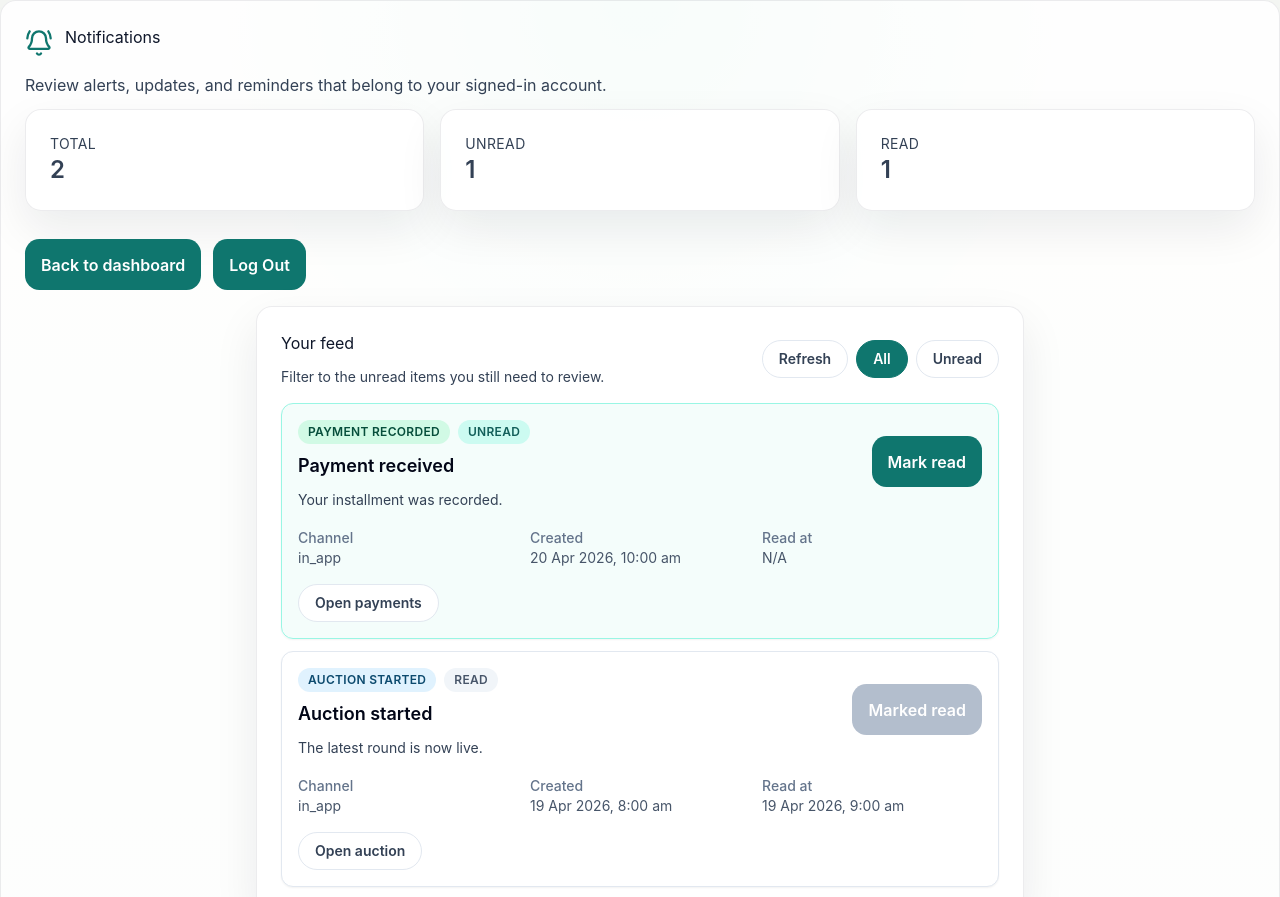
Test case: loads notifications and marks an unread item as read
Expected: the heading "Notifications" is shown, [65,25,160,49]
Expected: the link "Payment received" is shown, [298,455,454,476]
Click the button "Mark read": (927, 462) [872,436,982,487]
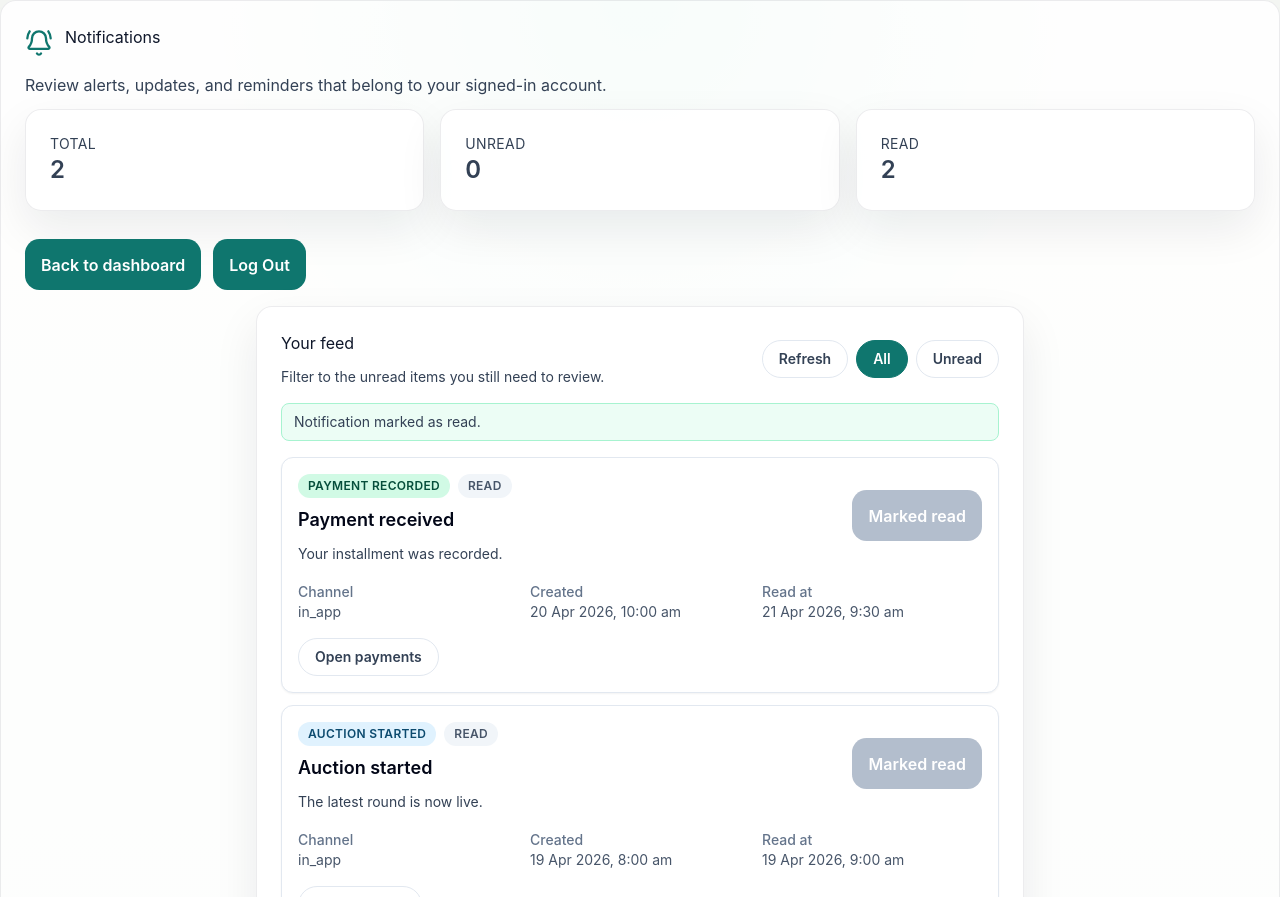
Expected: the number of buttons "Marked read" is 2, [852,490,982,541]; [852,738,982,789]
Now the text "Notification marked as read." is shown, box [281,403,999,441]
